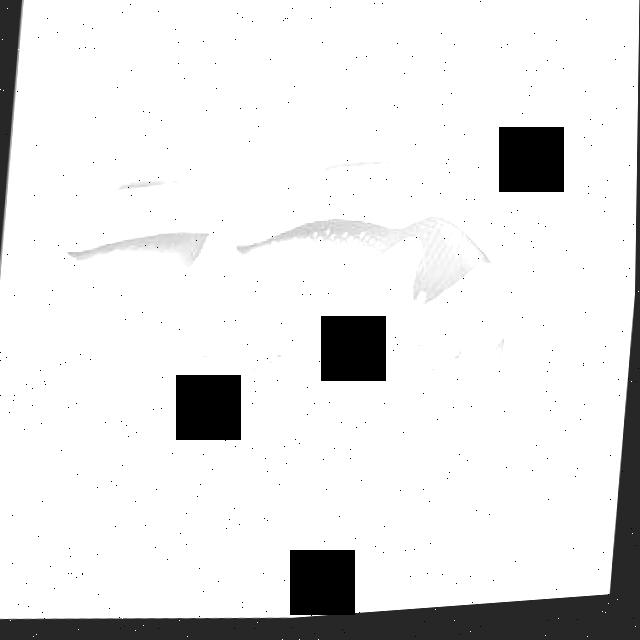shoe: (216, 141, 587, 476), (44, 159, 421, 469)
